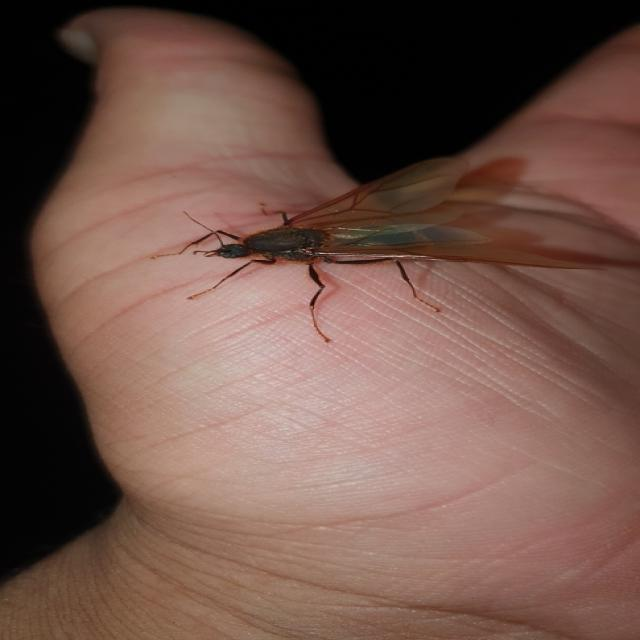Alive-Male-Alate: (150, 157, 609, 343)
